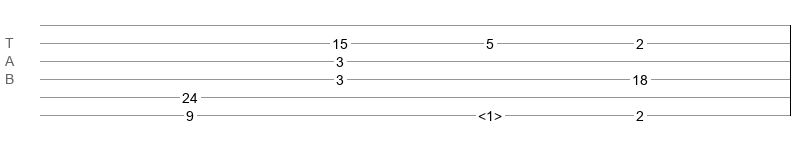15: (332, 36, 348, 46)
18: (632, 72, 648, 82)
2: (636, 36, 644, 46), (636, 108, 644, 118)
24: (182, 90, 198, 100)
3: (336, 54, 344, 64), (336, 72, 344, 82)
5: (486, 36, 494, 46)
9: (186, 108, 194, 118)
harmonic: (478, 108, 502, 118)
